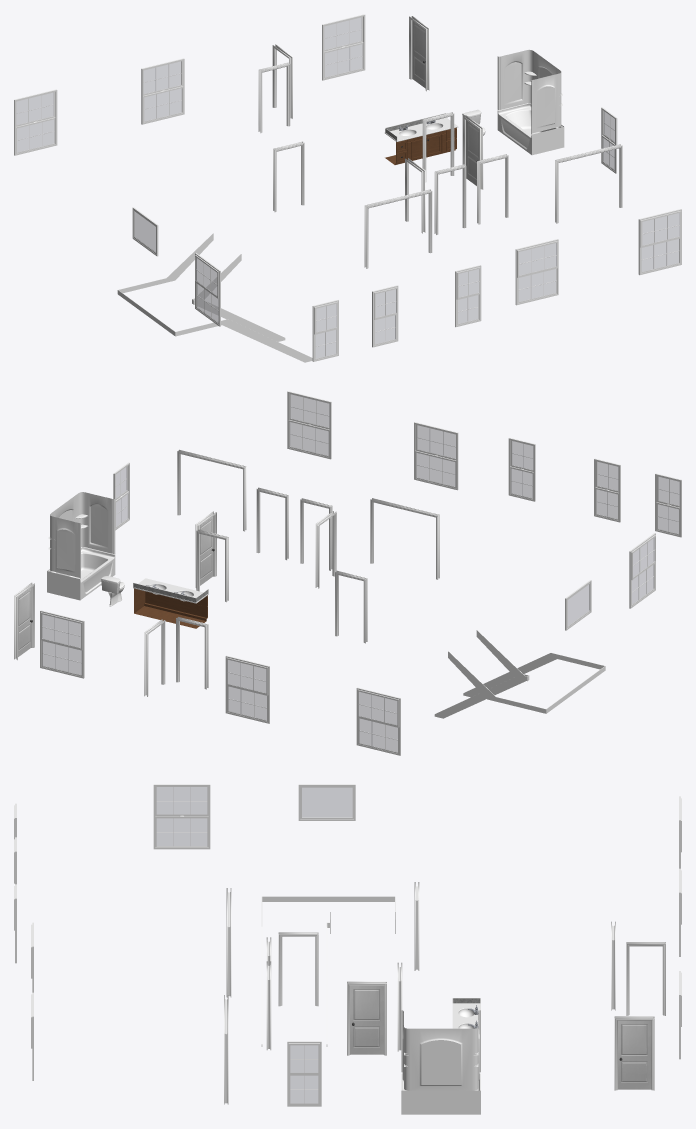
The model's file is KBH_Interior_model2345_2_furniture.glb.
3 views of the same model, one above another, from view 1: azimuth 30°, elevation 25°; view 2: azimuth 150°, elevation 25°; view 3: azimuth 270°, elevation 25° (orthographic). The views are drawn at different scales.
Parts seen in each view (by area): view 1: Line22791, Line22793, Line22792, Line22782, Box7018, Box7028, Box7042, Box7043, Box7046, Box7040, Box7020, Box7048 (+15 smaller); view 2: Line22791, Line22793, Line22792, Line22782, Line22835, Box7046, Box7018, Box7042, Box7045, Box7028, Box7040, Box7030 (+15 smaller); view 3: Line22782, Door_interior_038, Door_interior_037, Line22791, Box7036, Box7031, Box7033, Line22932, Box7051, Box7049, Line22933, Line23014 (+4 smaller).
Part boxes in pixels (box(x1,y1,x2,y2)): Line22791: box(497, 103, 564, 155); Line22793: box(502, 50, 524, 109); Line22792: box(534, 74, 556, 132); Line22782: box(524, 49, 561, 127); Box7018: box(518, 269, 556, 301); Box7028: box(641, 239, 679, 271); Box7042: box(143, 61, 181, 93); Box7043: box(17, 119, 54, 152); Box7046: box(325, 44, 362, 77); Box7040: box(144, 88, 181, 121); Box7020: box(519, 243, 556, 275); Box7048: box(324, 17, 361, 49); Line22791: box(47, 547, 115, 600); Line22793: box(54, 517, 77, 577); Line22792: box(87, 493, 110, 553); Line22782: box(50, 492, 87, 571); Line22835: box(134, 588, 207, 628); Box7046: box(42, 641, 81, 674); Box7018: box(416, 453, 455, 486); Box7042: box(227, 660, 266, 692); Box7045: box(358, 692, 397, 724); Box7028: box(290, 422, 328, 455); Box7040: box(228, 686, 266, 720); Box7030: box(290, 394, 329, 427); Line22782: box(404, 1027, 478, 1090); Door_interior_038: box(617, 1020, 651, 1089); Door_interior_037: box(350, 985, 383, 1054); Line22791: box(401, 1073, 480, 1114); Box7036: box(302, 787, 352, 817); Box7031: box(156, 818, 207, 846); Box7033: box(156, 787, 207, 814); Line22932: box(261, 896, 394, 922); Box7051: box(290, 1075, 318, 1103); Box7049: box(290, 1045, 318, 1072); Line22933: box(278, 933, 318, 1006); Line23014: box(153, 784, 210, 849).
Bounding box in the file's own units: 21.51 × 7.53 × 23.46.
10 materials, 4 textured.
